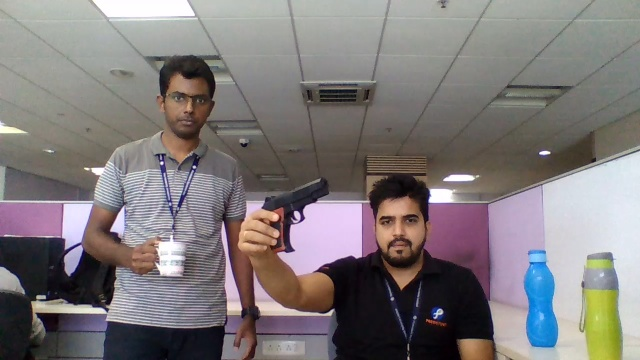gun: (280, 177, 330, 253)
